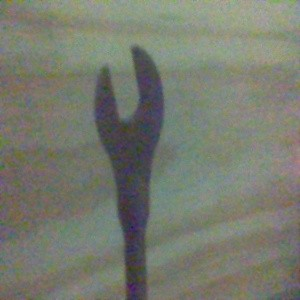spanner: (92, 44, 165, 300)
